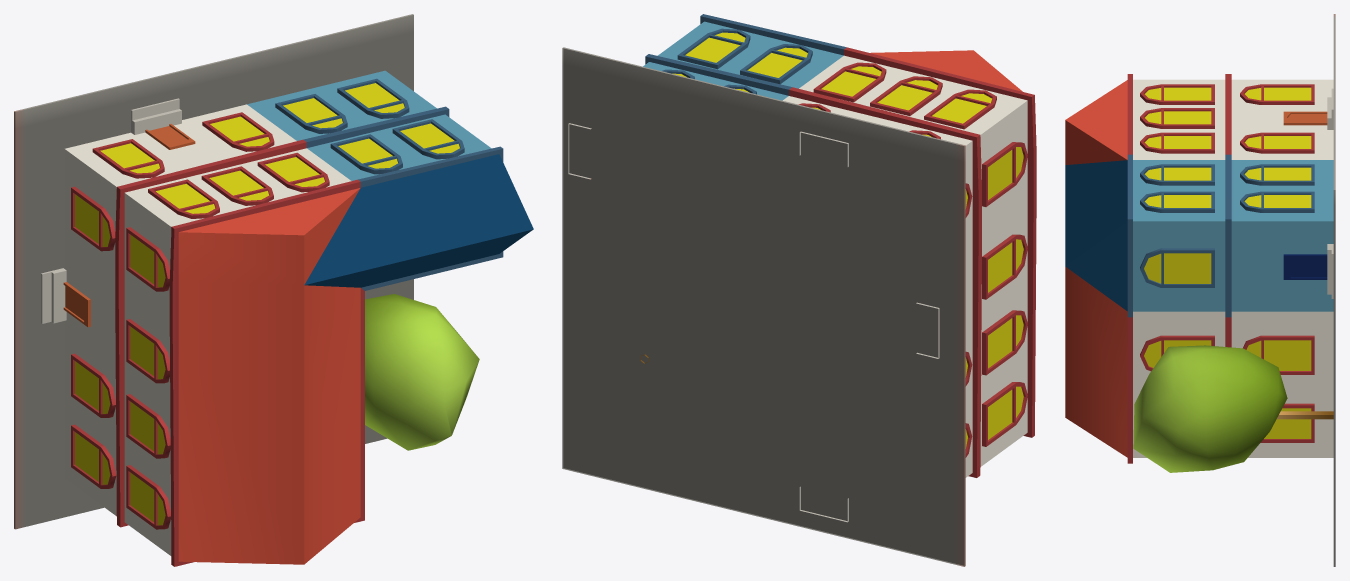
Rendered from Low_Office_01.fbx.
3 renders of one model, left to right at view 1: azimuth 30°, elevation 25°; view 2: azimuth 150°, elevation 25°; view 3: azimuth 270°, elevation 25°, orthographic. The views are drawn at different scales.
Visible parts, largest first — view 1: Low_Office_01; view 2: Low_Office_01; view 3: Low_Office_01.
Boxes of the visible parts, <box> form: Low_Office_01: <box>14,14,533,566</box>; Low_Office_01: <box>562,14,1036,566</box>; Low_Office_01: <box>1065,14,1335,566</box>.
Size of the model in its own units: 200 by 200 by 130.
